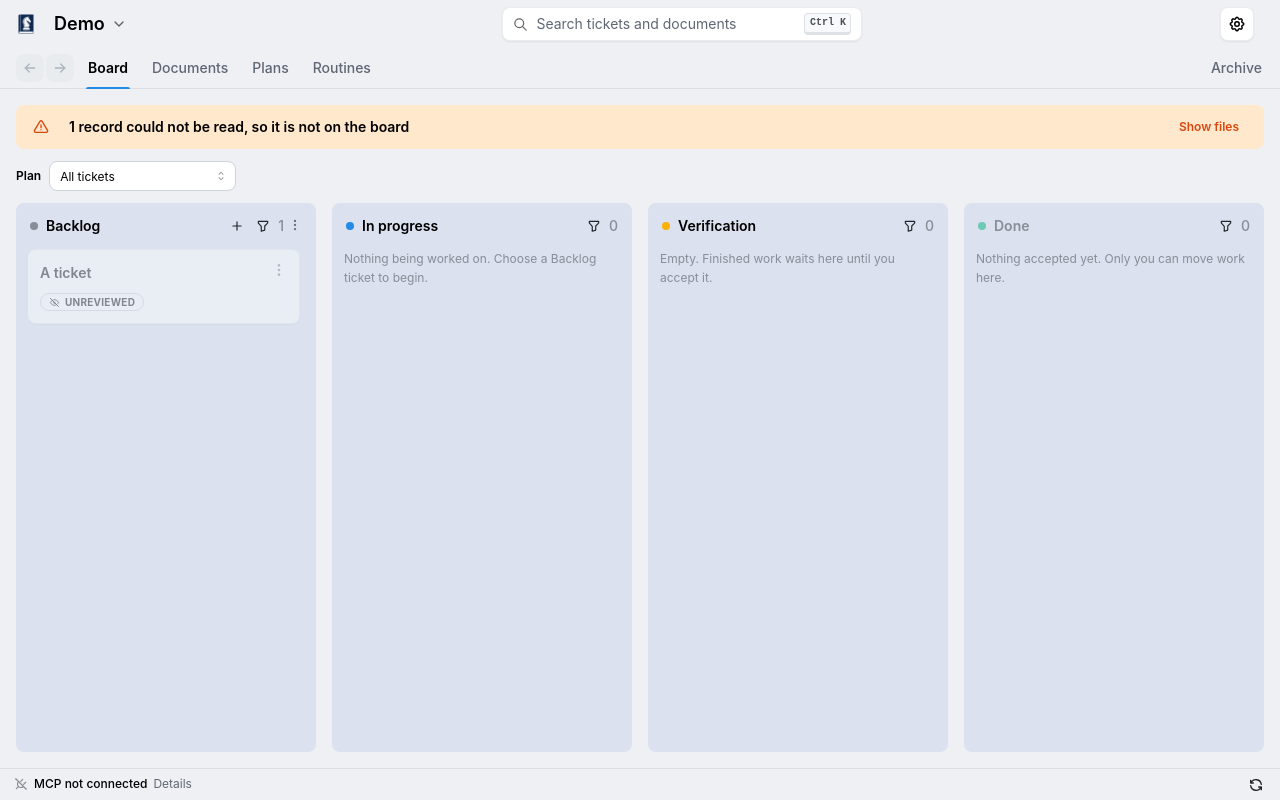
Test: a board with unreadable records › offers no way to repair or edit an unreadable record from the board
The image size is (1280, 800).
Expected: the text "A ticket" is shown, [40,264,91,281]
Click the button "Show files": (1209, 127) [1171,116,1247,138]
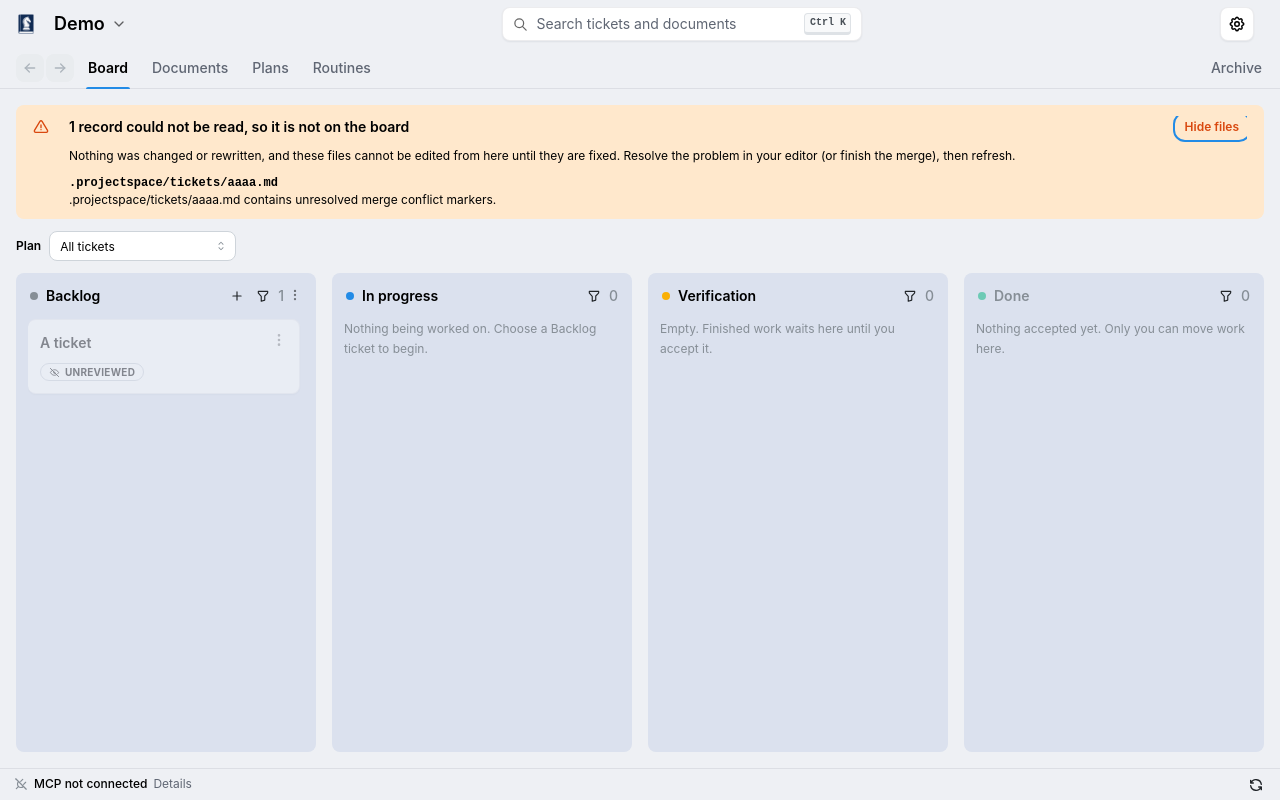
Now the buttons read "Hide files", in this order, box [1177,116,1247,138]
